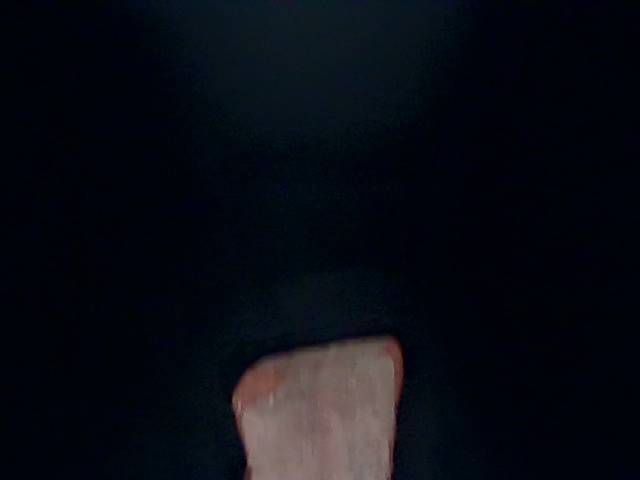KHSLJ: (1, 180, 272, 478)
